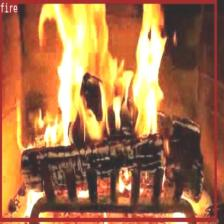fire: (0, 0, 216, 220)
